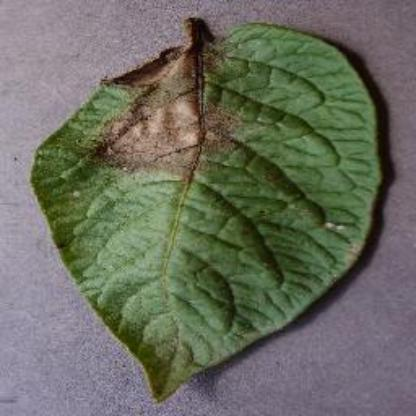Late-Blight: (27, 13, 405, 399)
